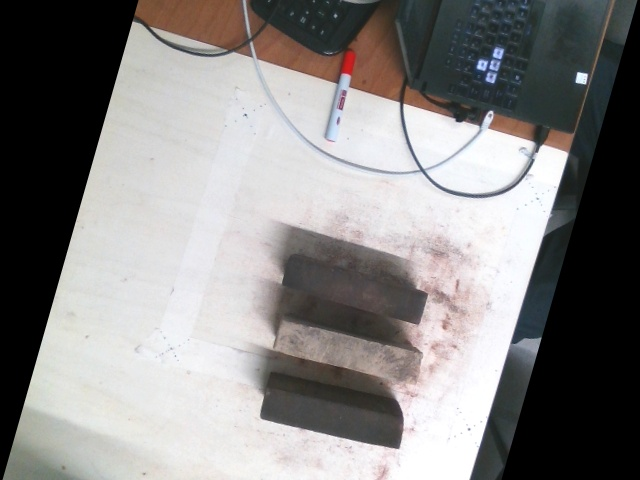brick-side: (285, 257, 429, 326), (275, 321, 419, 382), (258, 393, 401, 449)
